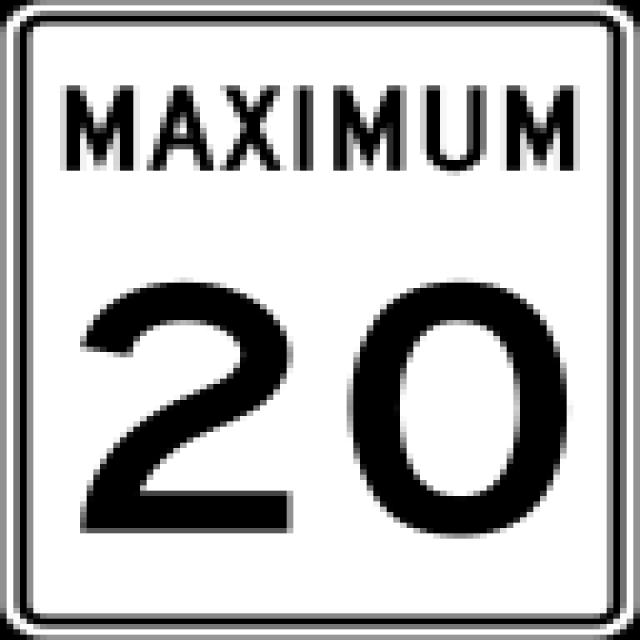Speed Limit -20-: (76, 279, 575, 541)
